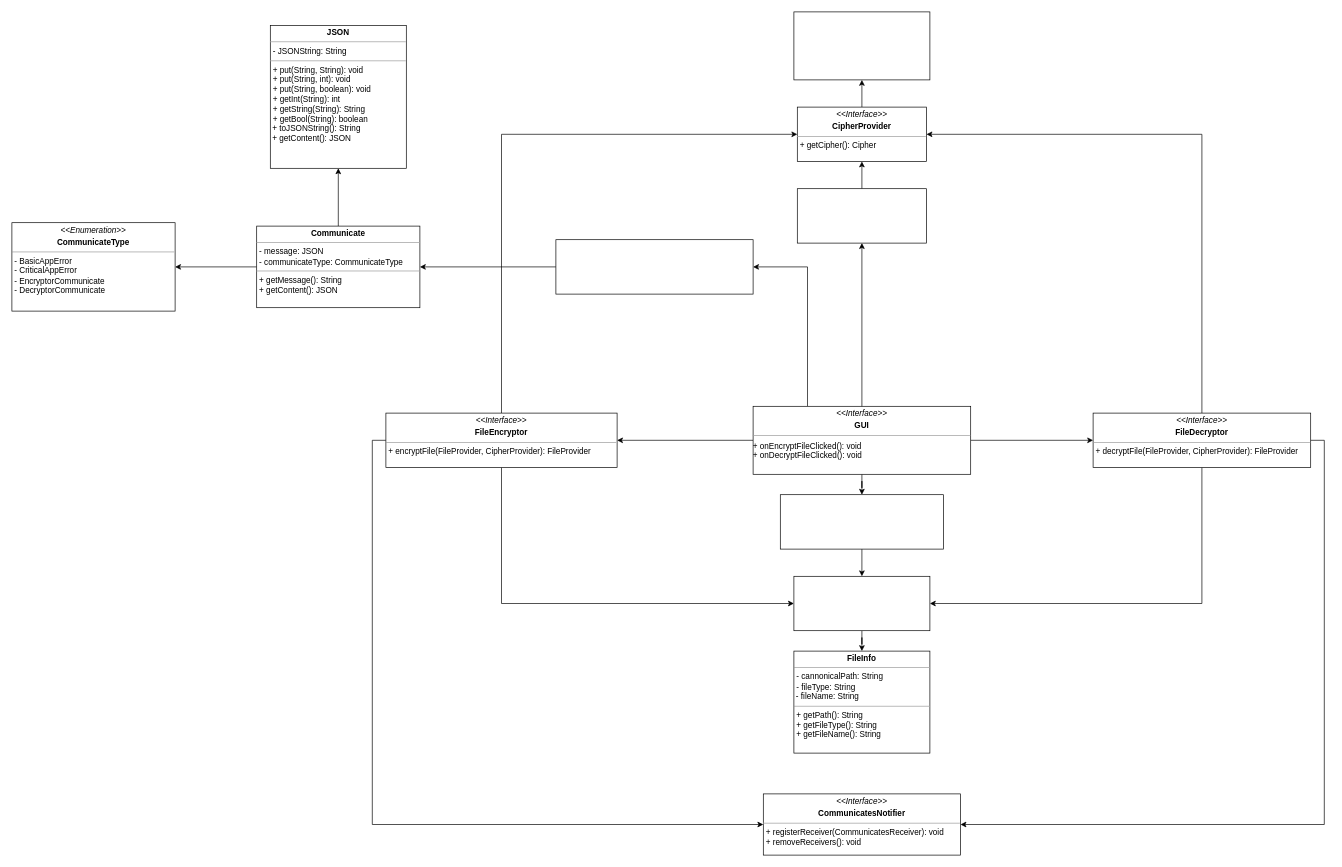
Some shapes in this 1342 by 867 pixel diagram are drawn without their labels. Here are the shapes that lost their labels. From the top down, the centre of each, then its label:
At point (861, 45): "Cipher - ??? unknown + ??? unknown".
At point (862, 215): "<<Interface>> CipherMethodSelector + selectCipher(): CipherProvider".
At point (654, 266): "<<Interface>> CommunicatesReceiver + onCommunicateOccured(Communicate): void".
At point (862, 521): "<<Interface>> FileSelector + selectFile(): FileProvider".
At point (861, 603): "<<Interface>> FileProvider + getFileInfo(): FileInfo".
